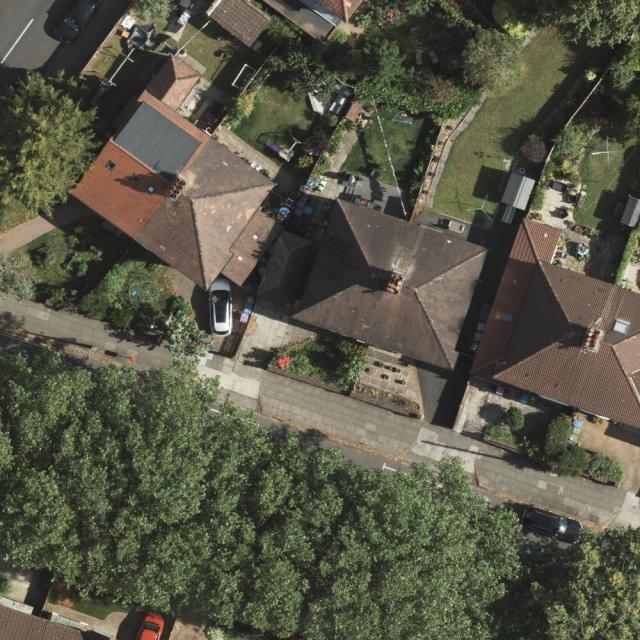roof: (68, 53, 284, 291), (472, 217, 640, 427), (294, 202, 489, 368), (257, 231, 315, 310), (0, 604, 117, 640), (204, 0, 270, 46), (317, 0, 365, 22)
skylight: (130, 172, 143, 186), (500, 310, 514, 323), (106, 160, 118, 172), (145, 184, 157, 196)
